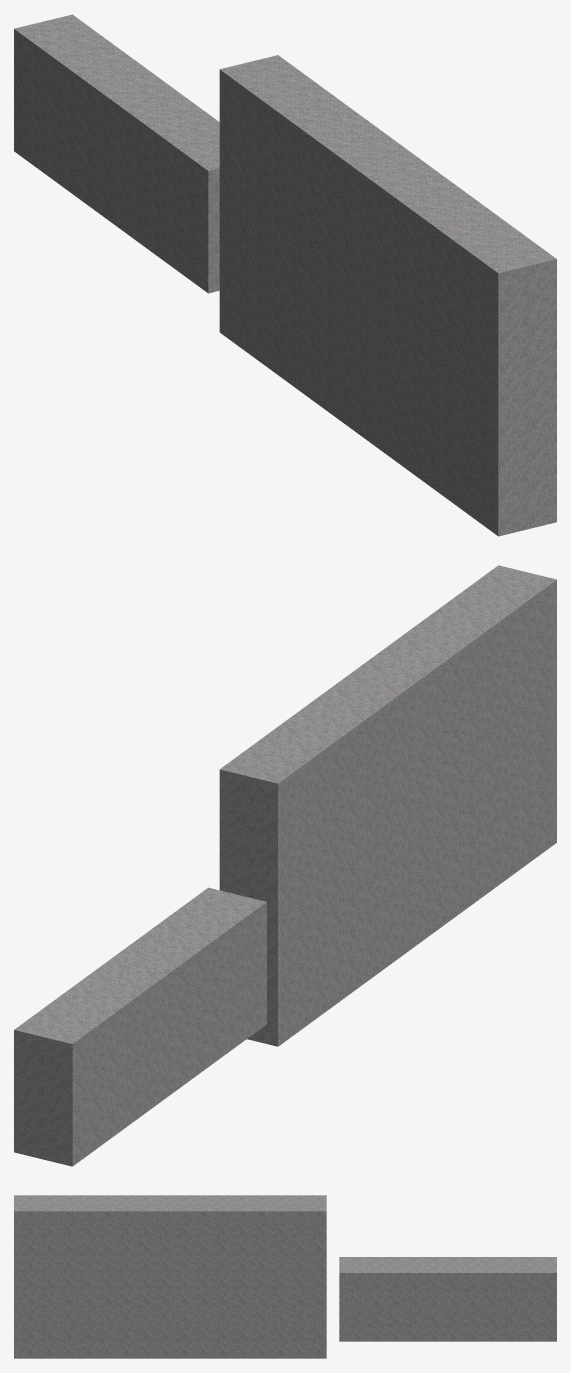
3 renders of one model, top to bottom at view 1: azimuth 30°, elevation 25°; view 2: azimuth 150°, elevation 25°; view 3: azimuth 270°, elevation 25°, orthographic. The views are drawn at different scales.
Parts seen in each view (by area): view 1: 0_1_3_3_0_3_1_3; view 2: 0_1_3_3_0_3_1_3; view 3: 0_1_3_3_0_3_1_3.
Part boxes in pixels (x1,y1,x2,y2): 0_1_3_3_0_3_1_3: (14, 14, 556, 536); 0_1_3_3_0_3_1_3: (14, 565, 556, 1166); 0_1_3_3_0_3_1_3: (14, 1195, 556, 1358).
Bounding box in the file's own units: 0.6 × 2.58 × 8.6.
2 materials, 2 textured.
